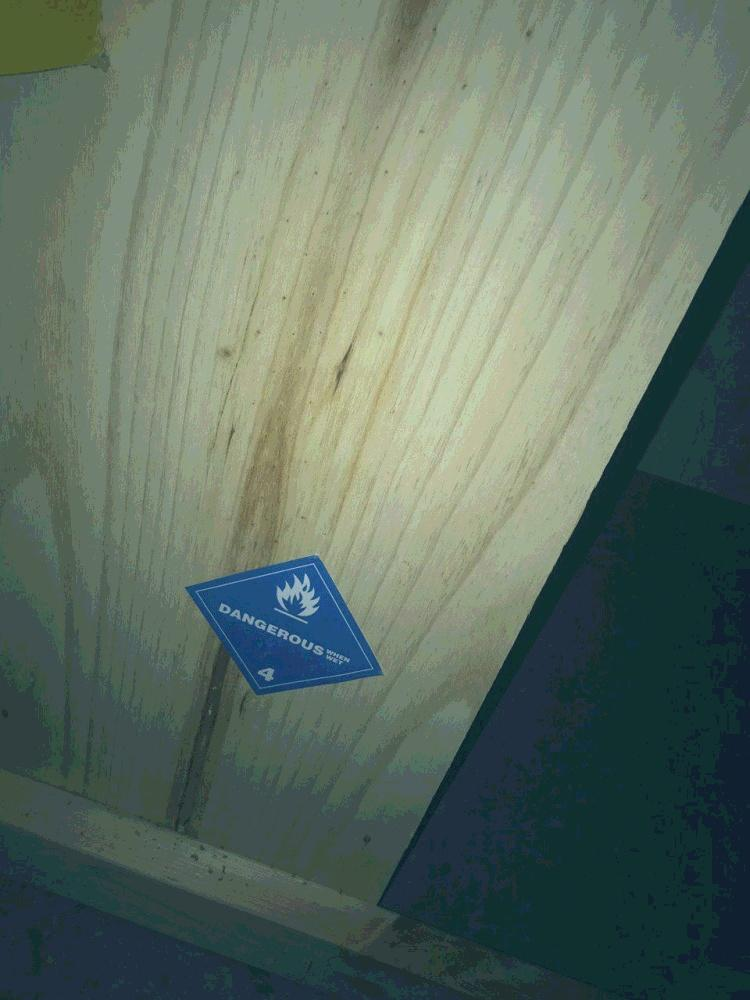dangerous-when-wet: (182, 554, 387, 697)
